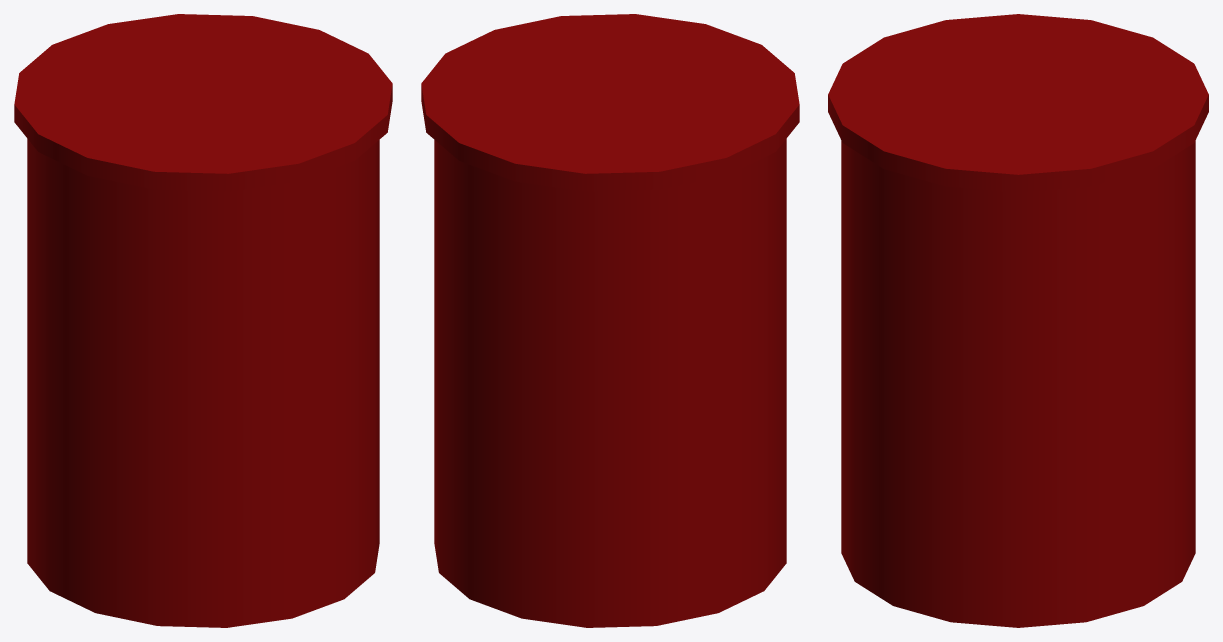
The model's file is TrahsBin1.fbx.
The picture shows the model from 3 angles, left to right: view 1: azimuth 30°, elevation 25°; view 2: azimuth 150°, elevation 25°; view 3: azimuth 270°, elevation 25°; orthographic projection.
Parts seen in each view (by area): view 1: pCylinder6, pCylinder8; view 2: pCylinder6, pCylinder8; view 3: pCylinder6, pCylinder8.
Part boxes in pixels (x1=…): pCylinder6: x1=27, y1=139, x2=379, y2=627; pCylinder8: x1=14, y1=14, x2=392, y2=191; pCylinder6: x1=434, y1=139, x2=786, y2=627; pCylinder8: x1=421, y1=14, x2=799, y2=191; pCylinder6: x1=841, y1=141, x2=1195, y2=627; pCylinder8: x1=828, y1=14, x2=1208, y2=192.
Size of the model in its own units: 0.537 by 0.7138 by 0.537.
